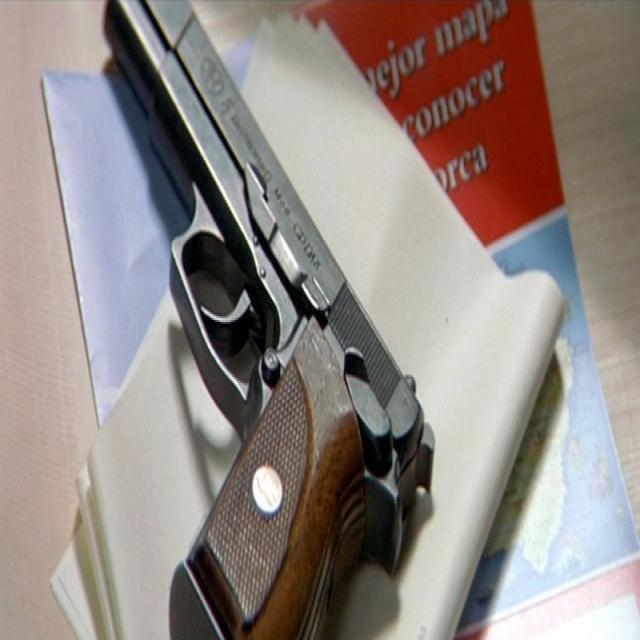gun-knife-thesis - v11 Yolov5 augmented: (100, 0, 433, 632)
